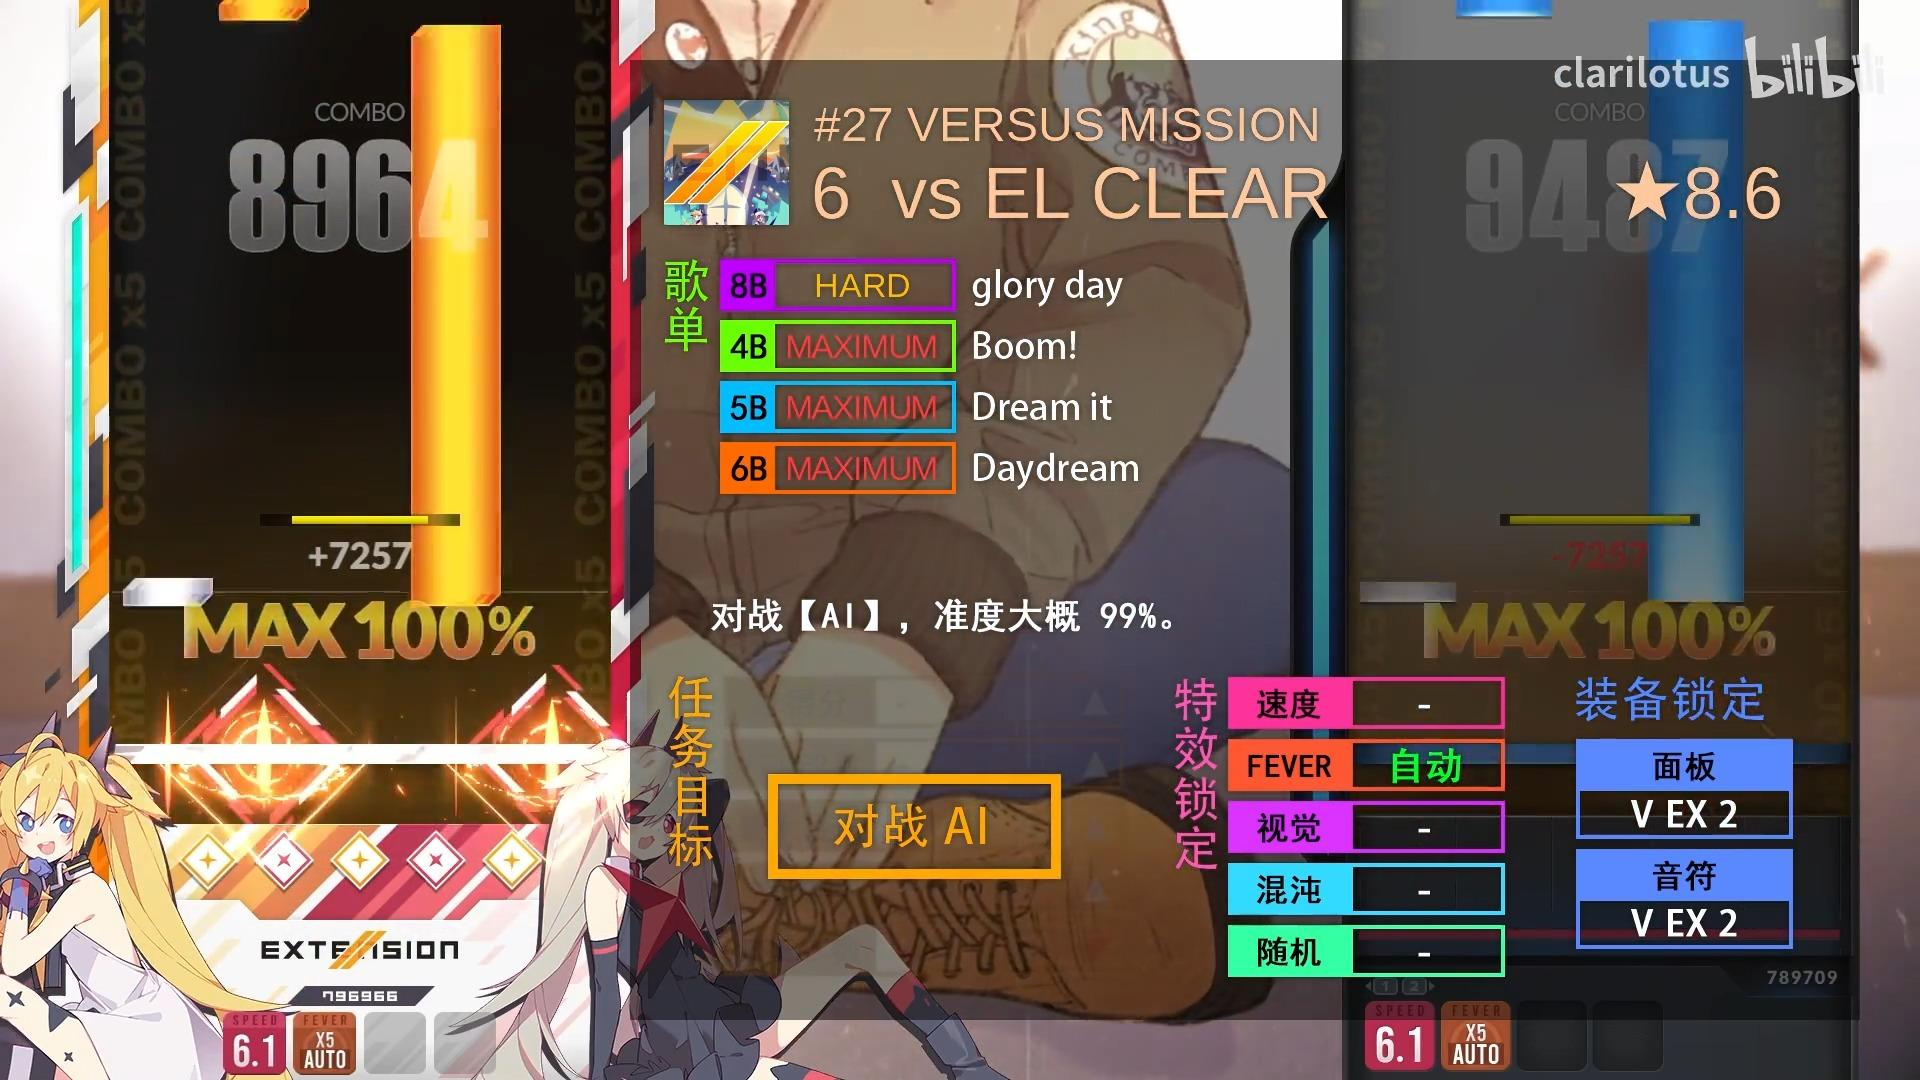hold-end: (410, 22, 501, 53)
hold-start: (410, 576, 502, 607)
note: (123, 576, 215, 605), (218, 0, 310, 20)
